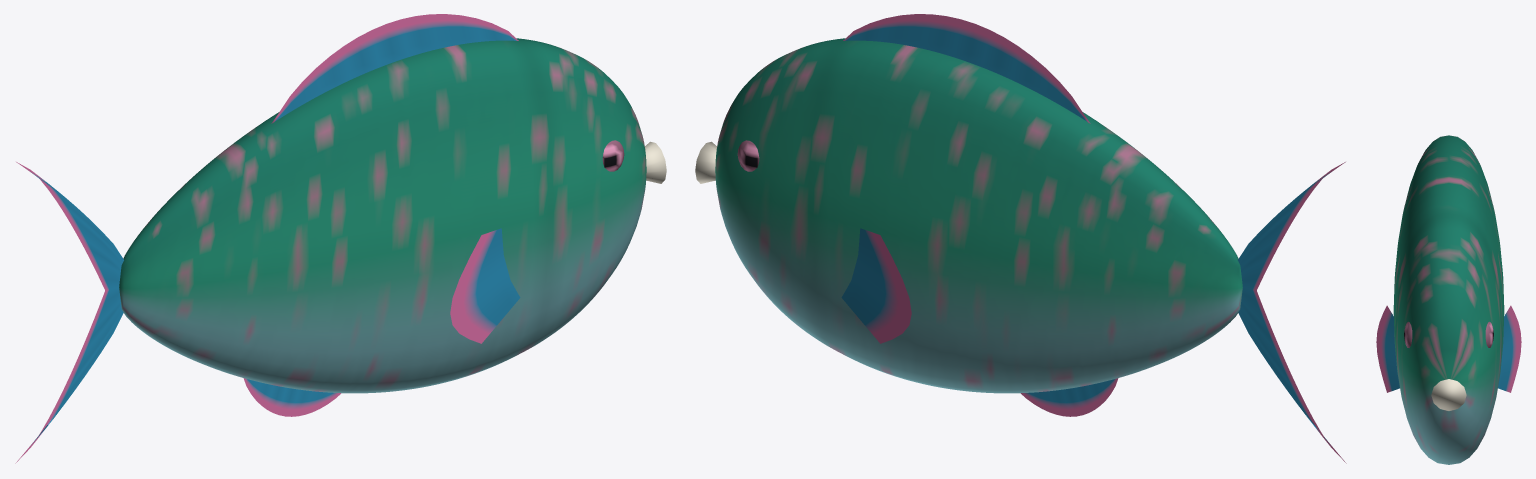
File: papagan.glb
3 views of the same model, side by side, from view 1: azimuth 30°, elevation 25°; view 2: azimuth 150°, elevation 25°; view 3: azimuth 270°, elevation 25° (orthographic). The views are drawn at different scales.
Visible parts, largest first — view 1: papagan_govde, papagan_sirt, papagan_kuyruk, papagan_gogusL, papagan_anal_a, papagan_gaga; view 2: papagan_govde, papagan_sirt, papagan_kuyruk, papagan_gogusR, papagan_anal_a, papagan_gaga; view 3: papagan_govde, papagan_gogusL, papagan_gogusR, papagan_gaga, papagan_gozL, papagan_gozR.
Part boxes in pixels (<box>): papagan_govde: <box>119,38,646,393</box>; papagan_sirt: <box>271,14,518,123</box>; papagan_kuyruk: <box>15,162,123,463</box>; papagan_gogusL: <box>450,228,520,343</box>; papagan_anal_a: <box>243,378,340,416</box>; papagan_gaga: <box>645,141,666,183</box>; papagan_govde: <box>715,38,1242,393</box>; papagan_sirt: <box>843,14,1090,123</box>; papagan_kuyruk: <box>1238,162,1346,463</box>; papagan_gogusR: <box>841,228,911,343</box>; papagan_anal_a: <box>1021,378,1118,416</box>; papagan_gaga: <box>695,141,716,183</box>; papagan_govde: <box>1393,135,1504,464</box>; papagan_gogusL: <box>1376,305,1399,392</box>; papagan_gogusR: <box>1498,305,1521,392</box>; papagan_gaga: <box>1431,379,1466,410</box>; papagan_gozL: <box>1404,321,1412,347</box>; papagan_gozR: <box>1485,321,1493,347</box>.
Size of the model in its own units: 1.01 by 0.5626 by 0.2461.
